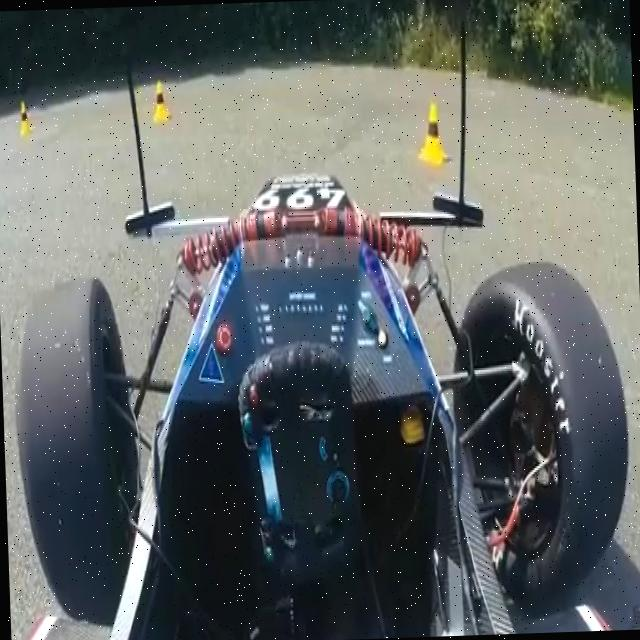yellow_cone: (414, 102, 447, 168), (149, 78, 173, 124), (18, 98, 34, 136)
